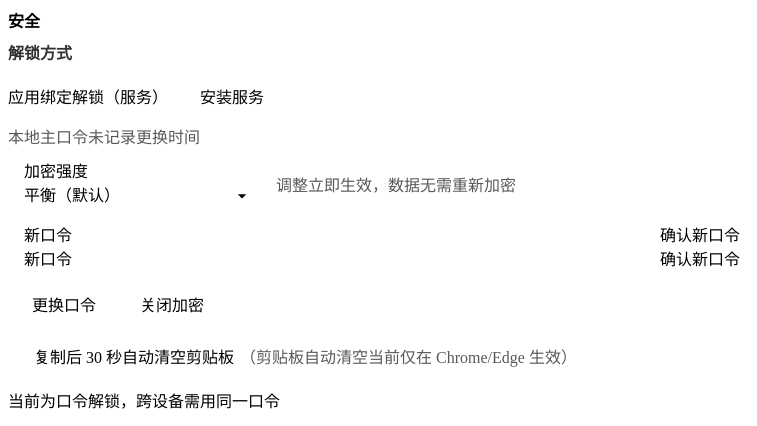
it: SecurityCard ABE 区块（plan p6 §0.3 三态 + R7-I2 源缺失引导态） › bind 失败 {"ok":false,"reason":"cancelled","detail":"UAC 取消"} → 不调 addSource，保持未安装态并给分类内联文案（含「已取消 UAC 授权或未完成授权，安装中止」）
The width and height of the screenshot is (757, 426).
Click the button with class "abe-install": (232, 96) [176,76,288,116]
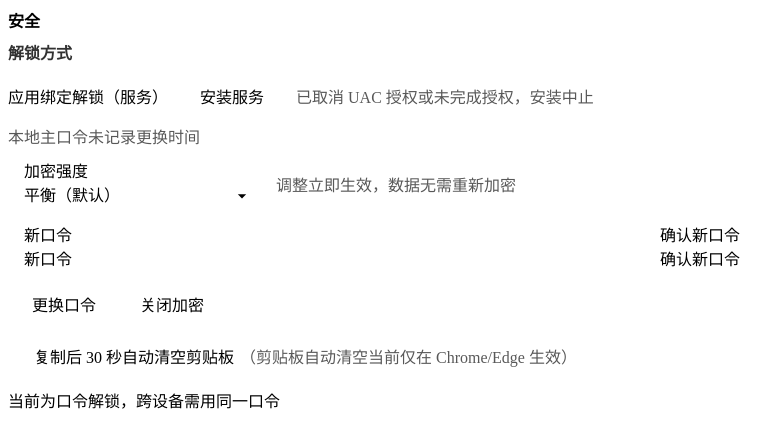
Check: the text "已取消 UAC 授权或未完成授权，安装中止" is shown, box [296,84,594,108]
